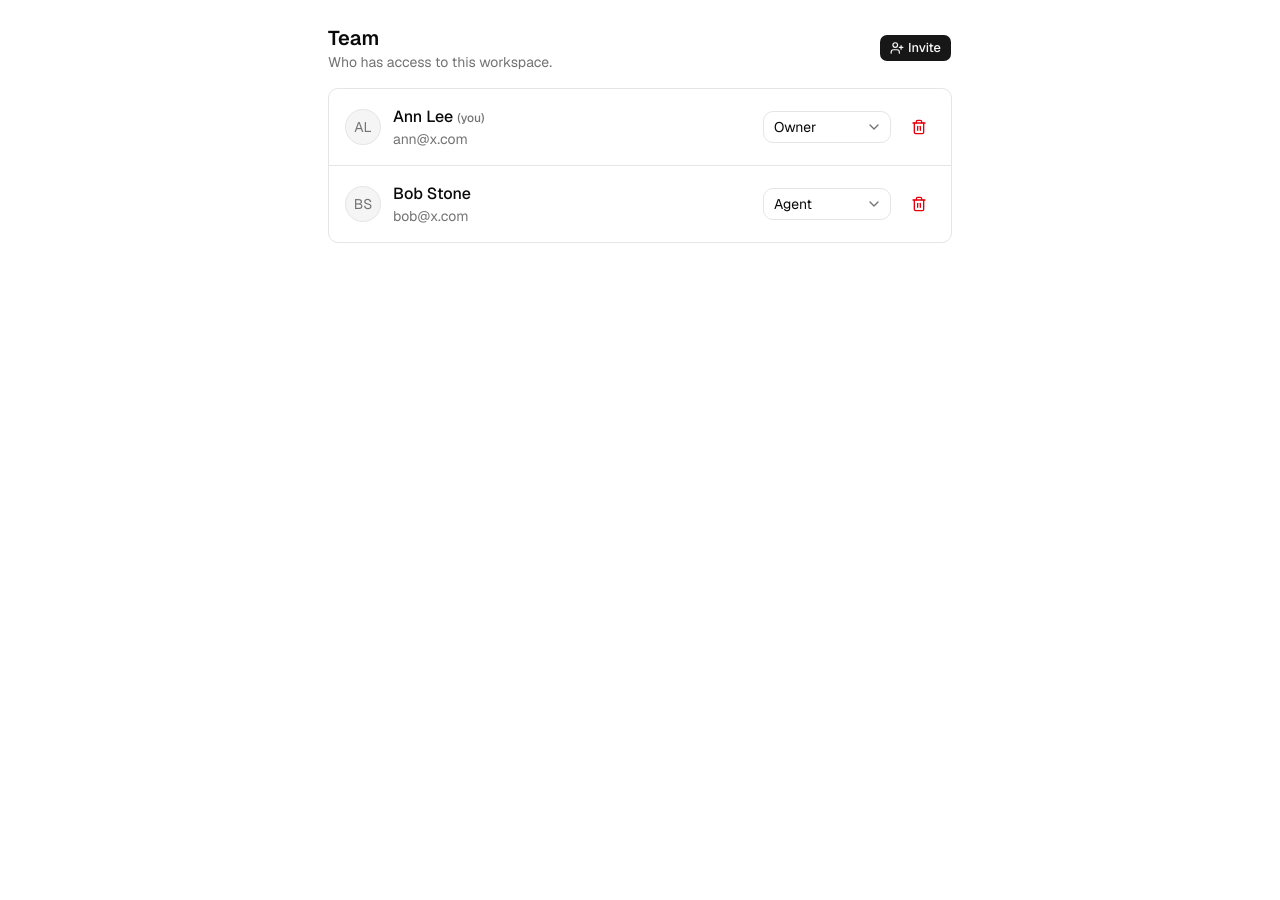
Test: Team settings › explains why someone couldn't be added (e.g. they haven't registered yet)
Expected: the text "Ann Lee" is shown, [393,106,453,127]
Click the button "Invite" at (915, 48), box [879,34,952,62]
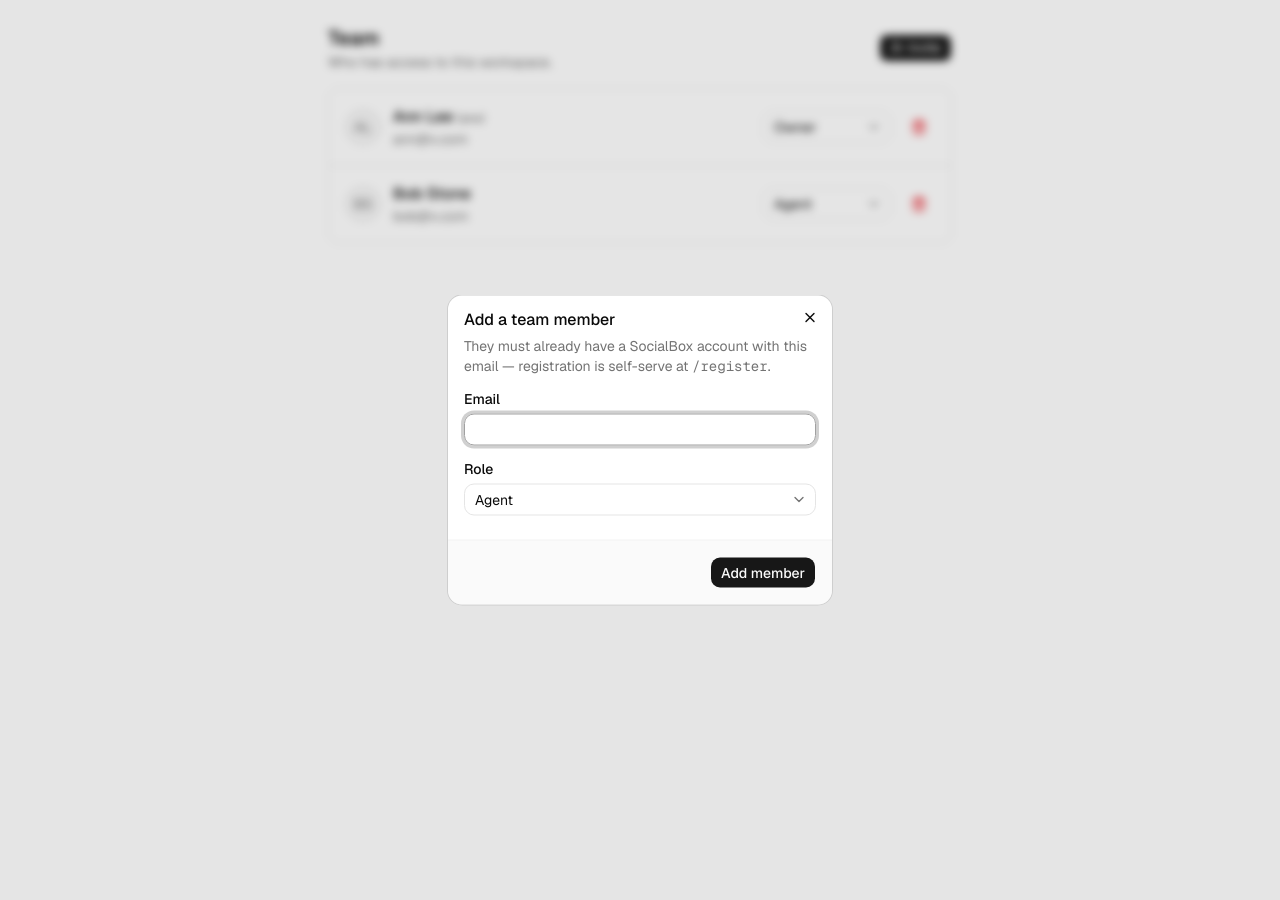
Type "ghost@x.com" into the field labelled "Email" at (640, 430), box [464,414,816,446]
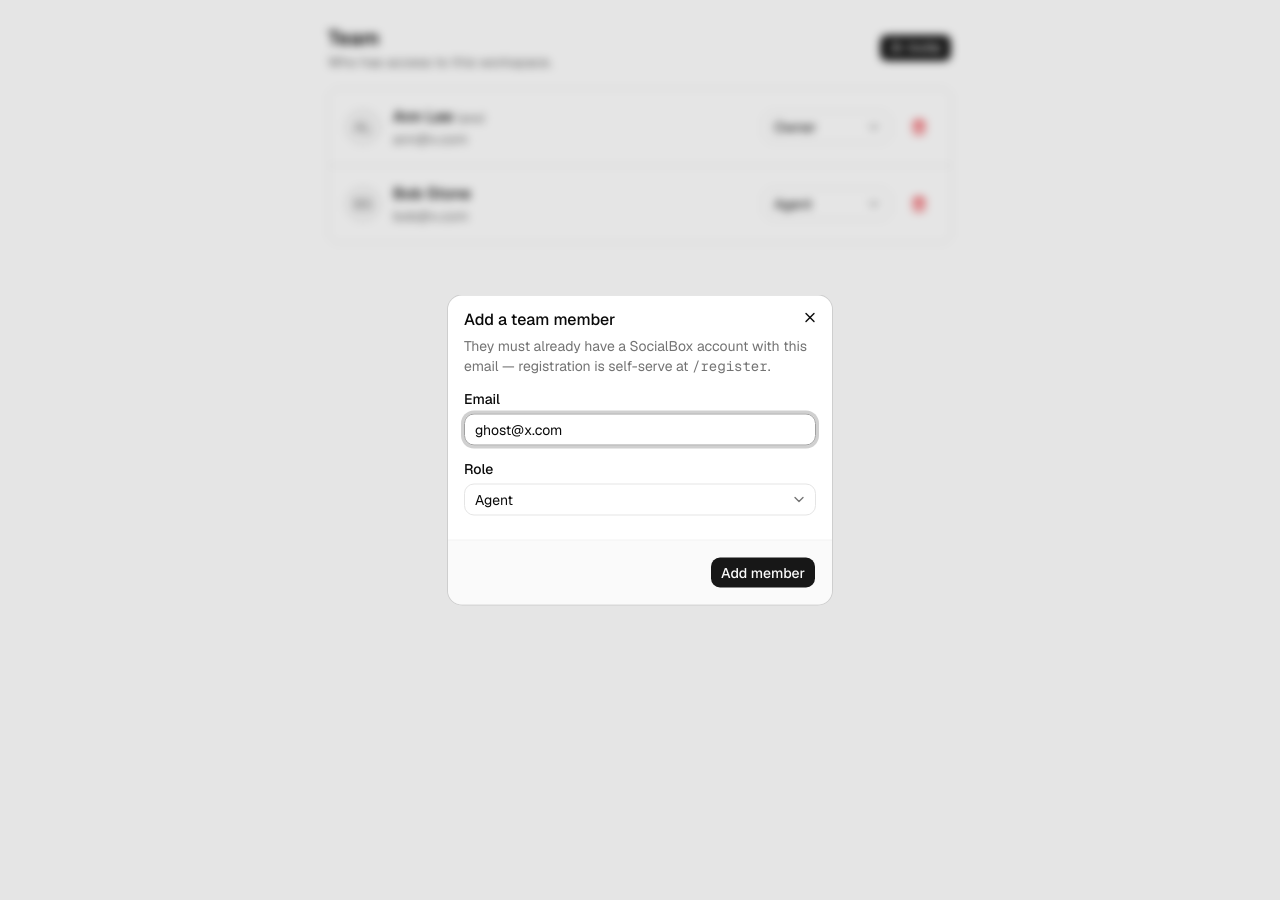
Click the button "Add member" at (763, 572), box [710,556,816,588]
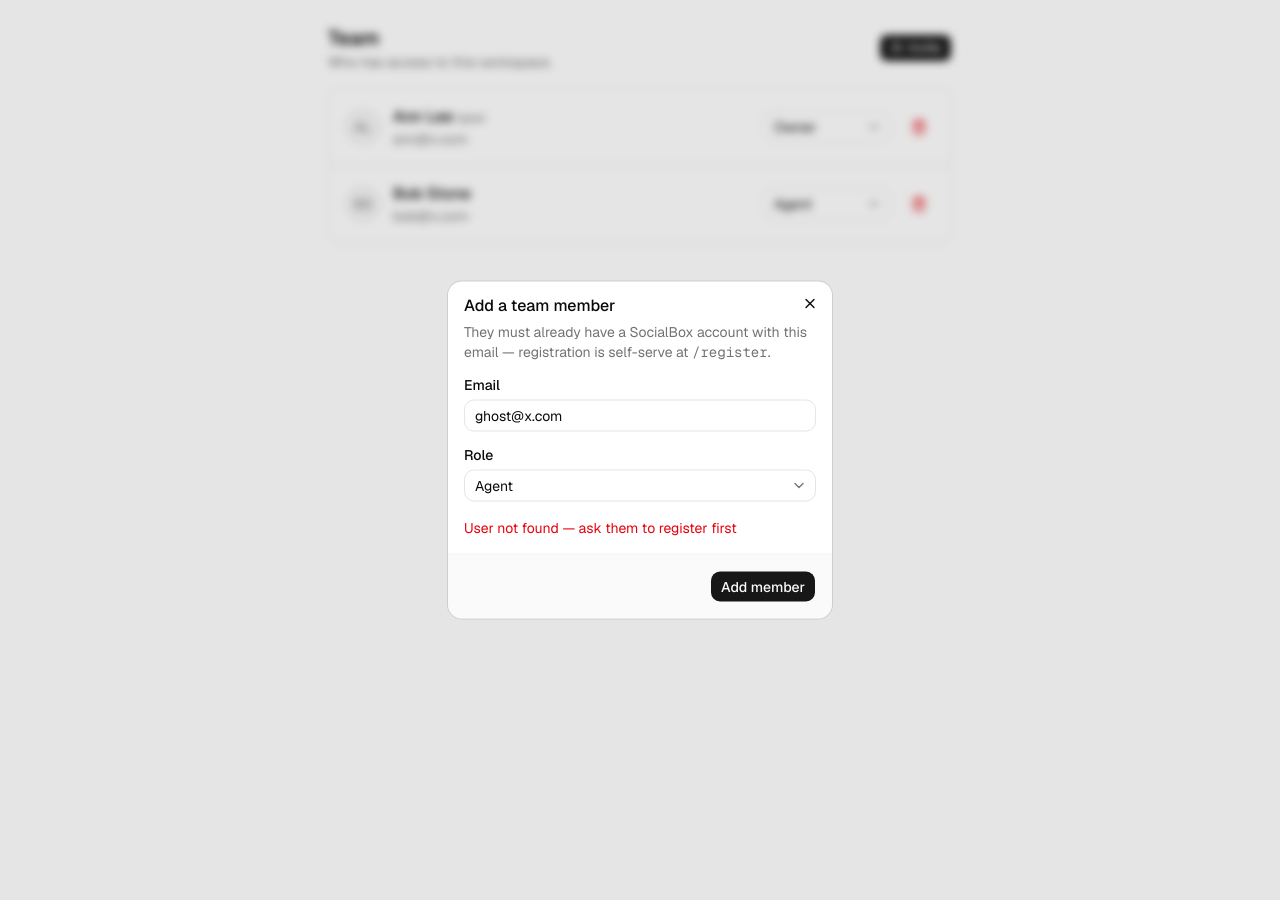
Now the text "User not found — ask them to register first" is shown, box [464,518,737,536]
